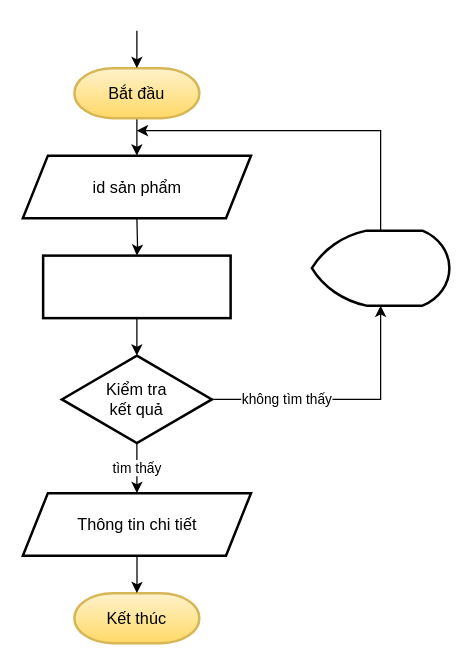
This 473x666 diagram has some shape labels left out. The shapes that lost their labels are listed below. From the top down, each one's box as (x1, y1, x2, y2) in pixels, then its label:
(41, 254, 231, 319): Truy vấn thông tin
(310, 229, 450, 306): Thông báo không tìm thấy
